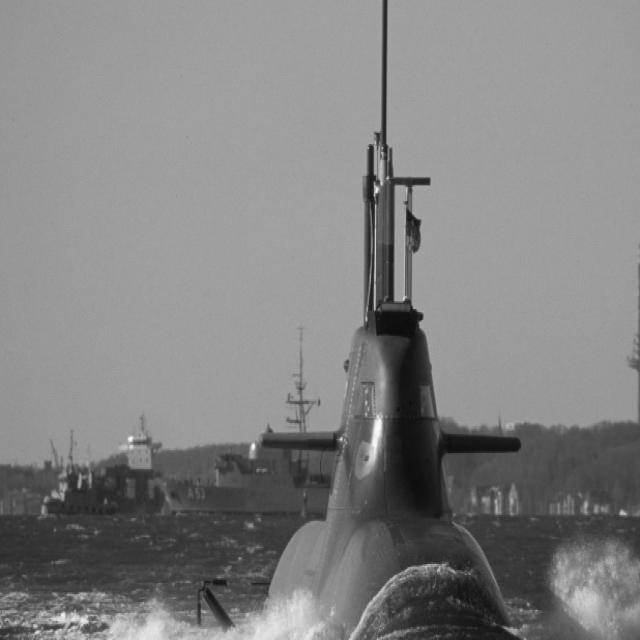submarine: (214, 1, 511, 640)
